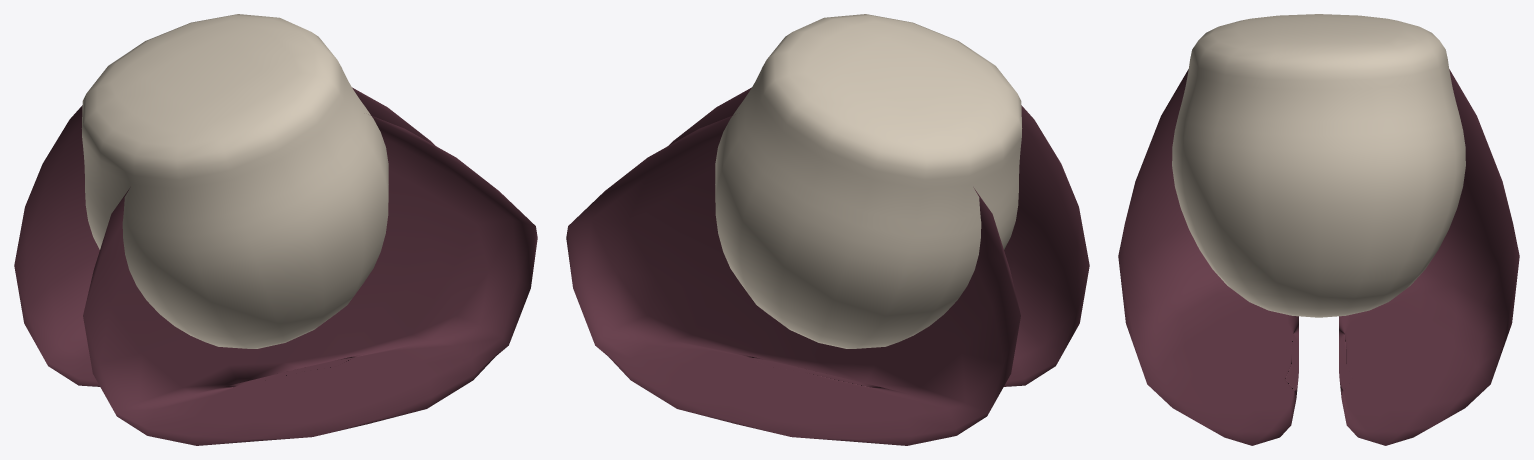
Rendered from creature.hoof.glb.
The picture shows the model from 3 angles, left to right: view 1: azimuth 30°, elevation 25°; view 2: azimuth 150°, elevation 25°; view 3: azimuth 270°, elevation 25°; orthographic projection. The views are drawn at different scales.
Parts seen in each view (by area): view 1: Dark, Skin; view 2: Dark, Skin; view 3: Skin, Dark.
Boxes of the visible parts, x1=… form: Dark: x1=14, y1=87, x2=537, y2=445; Skin: x1=81, y1=14, x2=388, y2=348; Dark: x1=566, y1=87, x2=1089, y2=445; Skin: x1=715, y1=14, x2=1022, y2=348; Skin: x1=1172, y1=14, x2=1465, y2=317; Dark: x1=1118, y1=69, x2=1519, y2=445.
Size of the model in its own units: 0.2 by 0.1411 by 0.1618.
